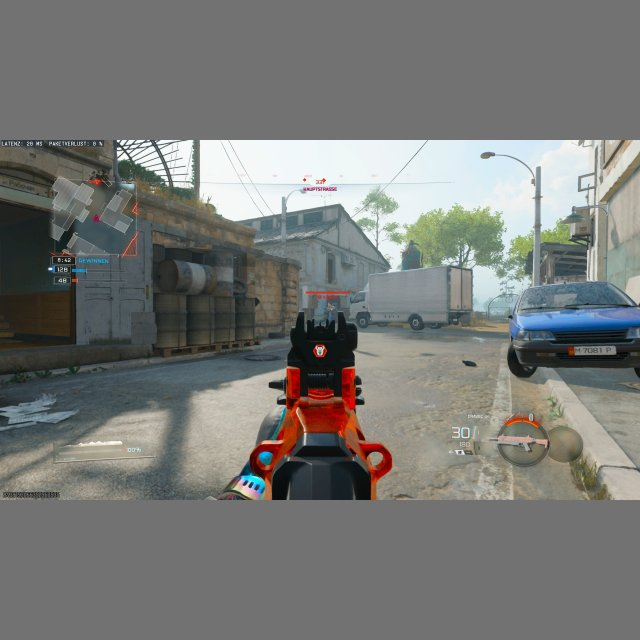player: (326, 302, 335, 317)
